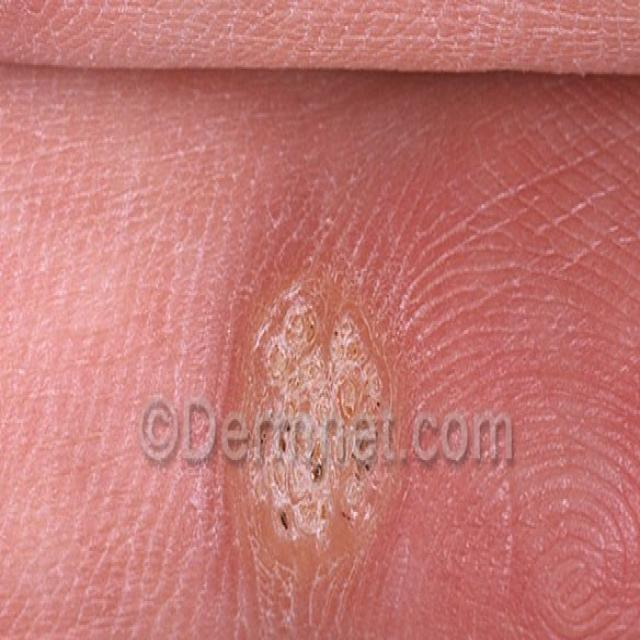Warts: (219, 242, 413, 578)
